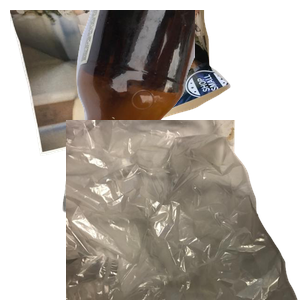glass: (60, 10, 300, 190)
paper: (10, 10, 233, 158)
plastic: (60, 120, 300, 300)
trash: (66, 120, 300, 300)
